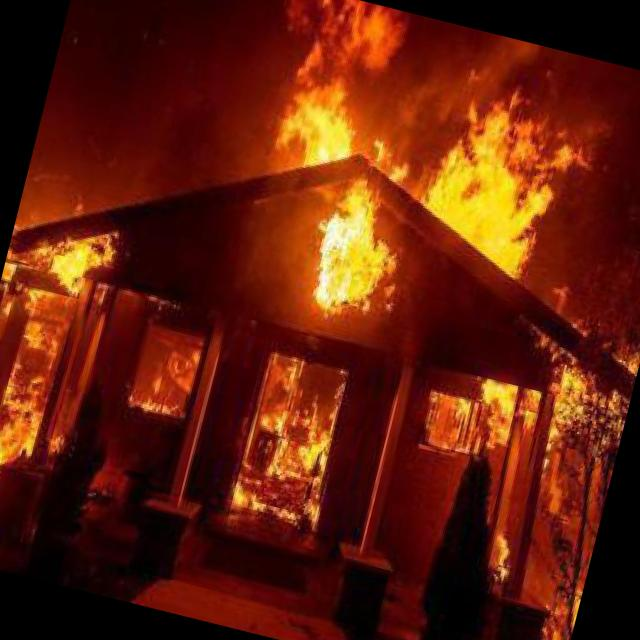Fire: (0, 201, 126, 558), (404, 51, 602, 278), (213, 348, 364, 551), (262, 0, 399, 186), (296, 161, 420, 341), (467, 337, 607, 466), (111, 302, 221, 442), (415, 387, 487, 455), (481, 508, 529, 598), (528, 590, 578, 640)
